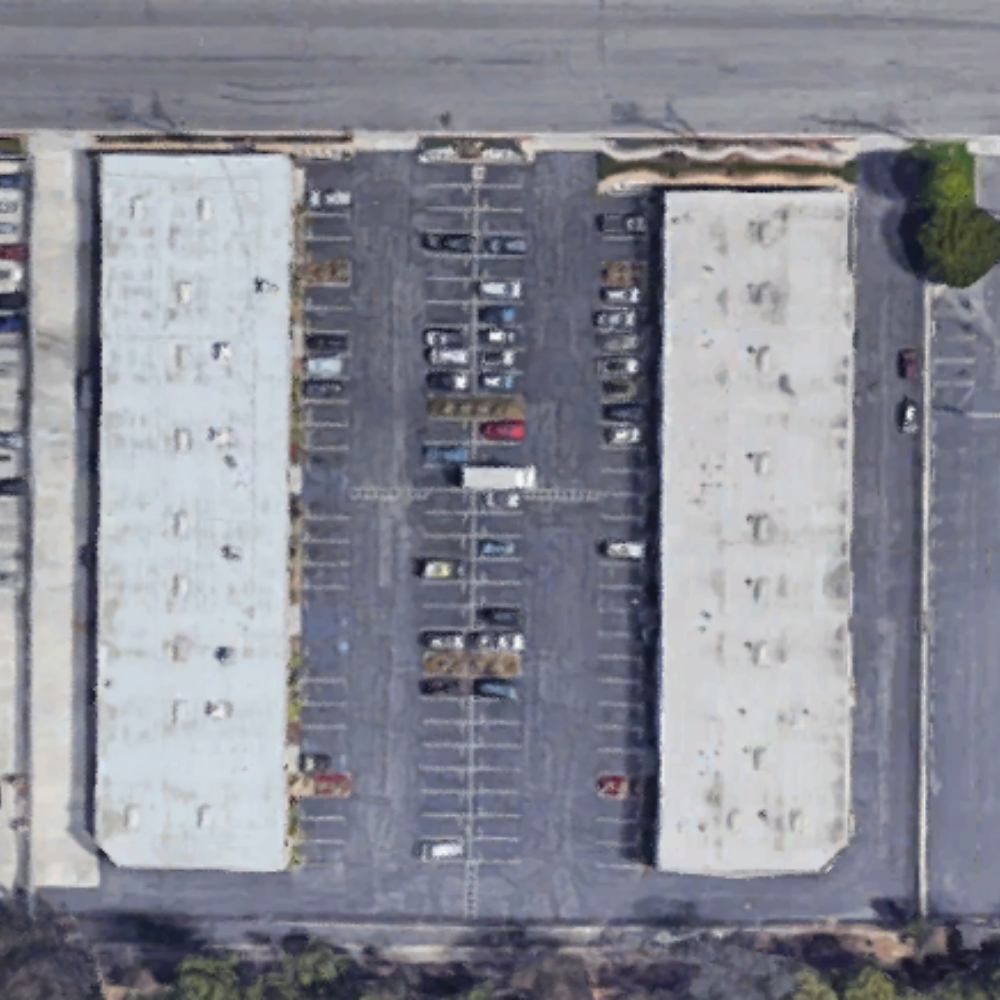parking: (300, 160, 645, 925)
